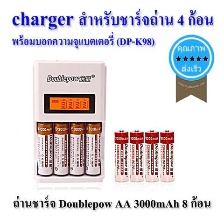battery: (52, 119, 72, 176), (158, 129, 178, 185), (127, 127, 146, 183), (35, 122, 54, 177), (84, 119, 102, 177), (68, 120, 86, 177), (113, 128, 131, 183), (143, 126, 160, 183)
